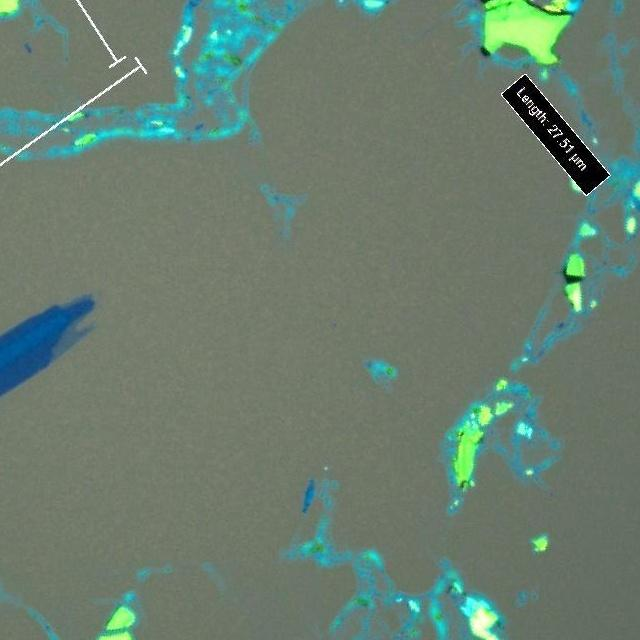monolayer-eWW4: (50, 316, 98, 364)
